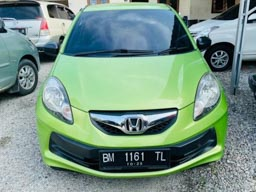plat: (101, 151, 169, 161)
